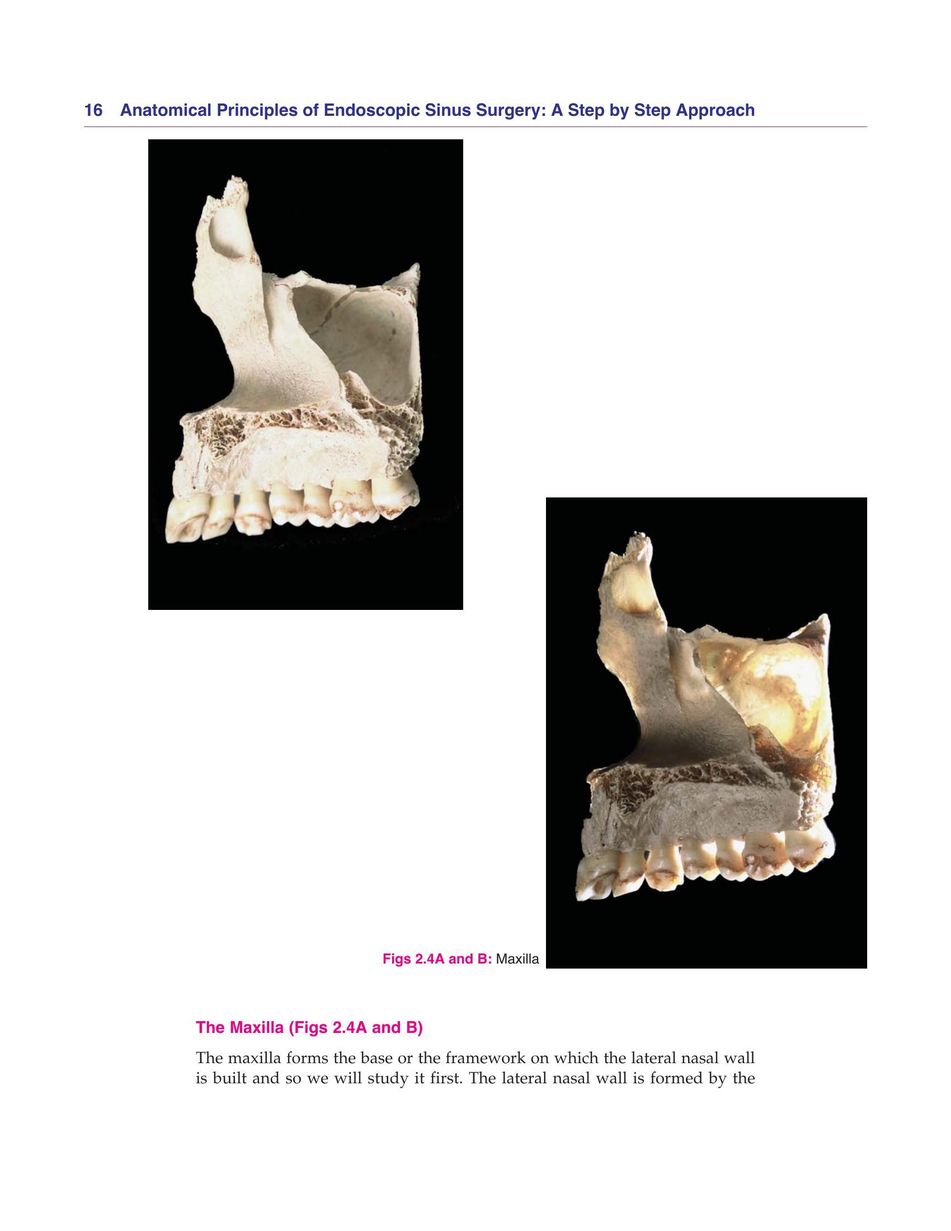caption: (381, 952, 540, 967)
header: (119, 100, 755, 123)
image: (545, 496, 868, 969), (147, 137, 465, 612)
sub-section-heading: (192, 1018, 425, 1039)
text: (192, 1049, 758, 1090)
